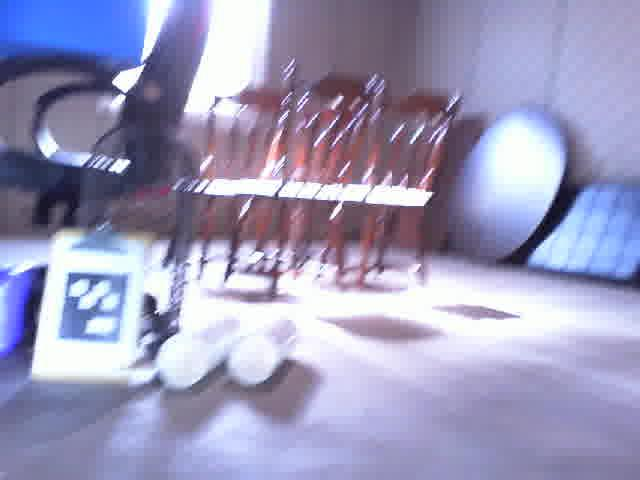coral: (157, 314, 241, 389), (229, 317, 299, 387)
